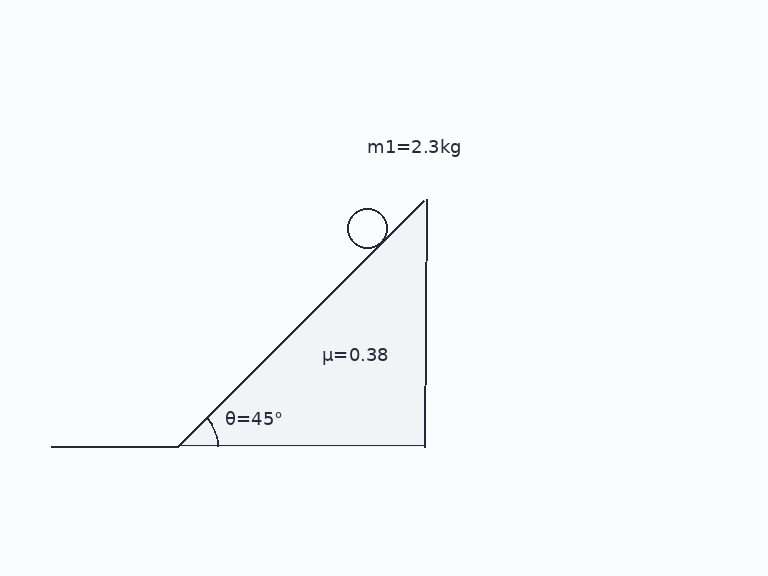ball: (345, 206, 389, 250)
ramp: (176, 197, 427, 448)
